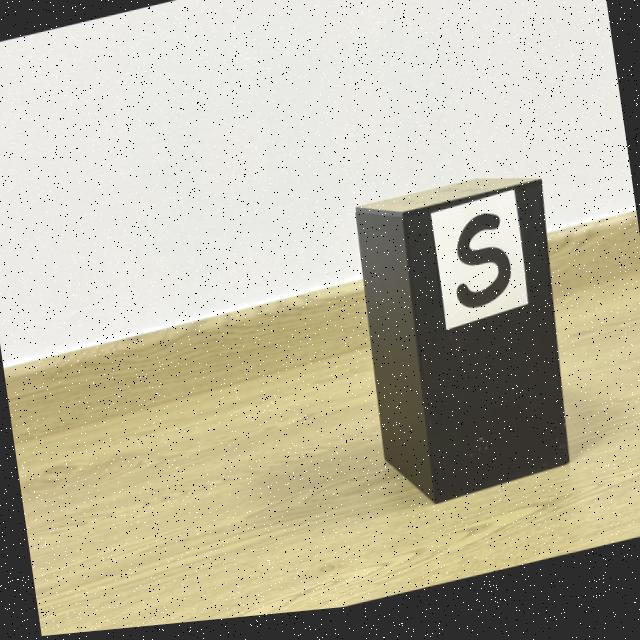S: (456, 223, 511, 318)
